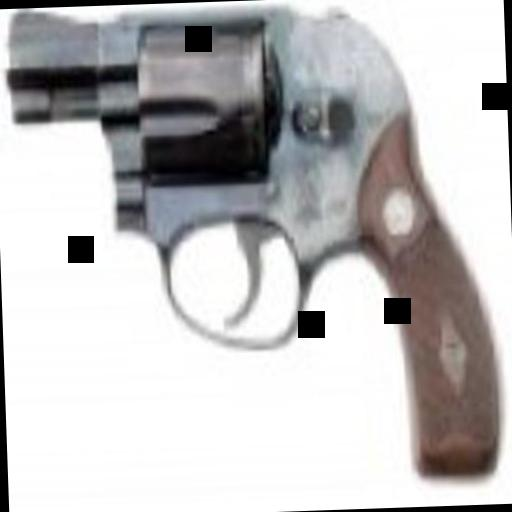Handgun: (2, 0, 498, 489)
